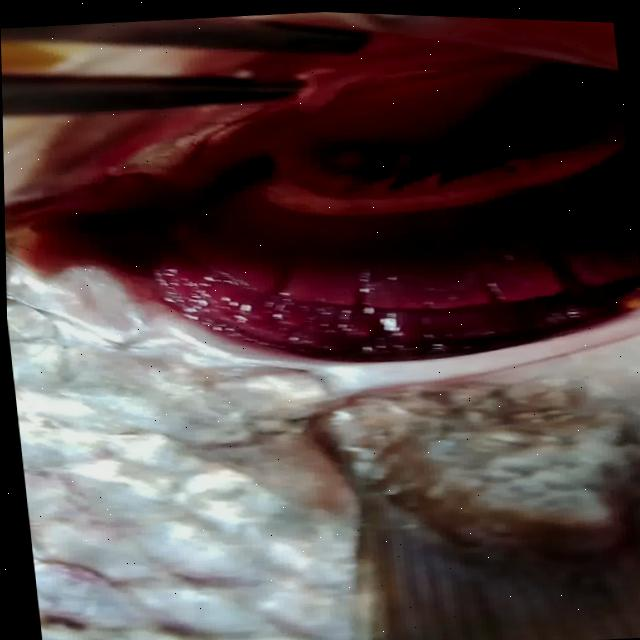Fresh: (35, 40, 640, 430)
